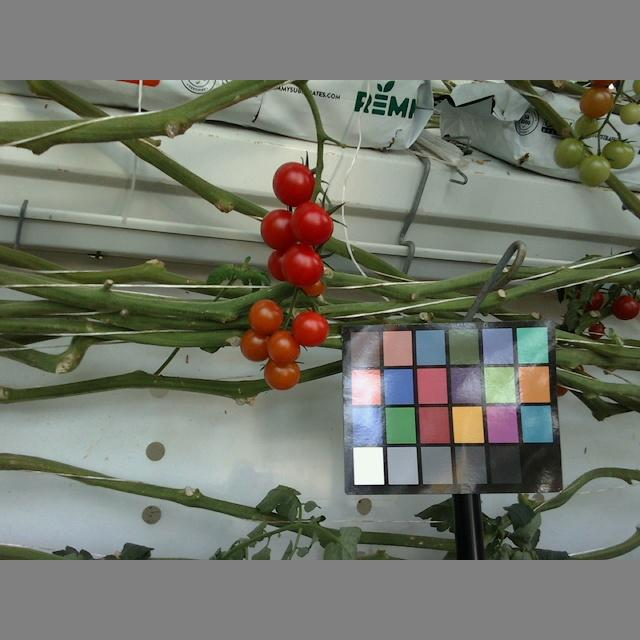green: (552, 136, 586, 168), (601, 140, 633, 170), (577, 157, 611, 185), (571, 111, 602, 137), (618, 104, 640, 126)
pink: (263, 357, 301, 391), (239, 327, 275, 362), (249, 296, 283, 333), (267, 328, 301, 364), (577, 86, 613, 118)
red: (291, 199, 335, 247), (280, 243, 323, 287), (258, 206, 300, 250), (272, 161, 315, 203), (290, 311, 330, 348)
